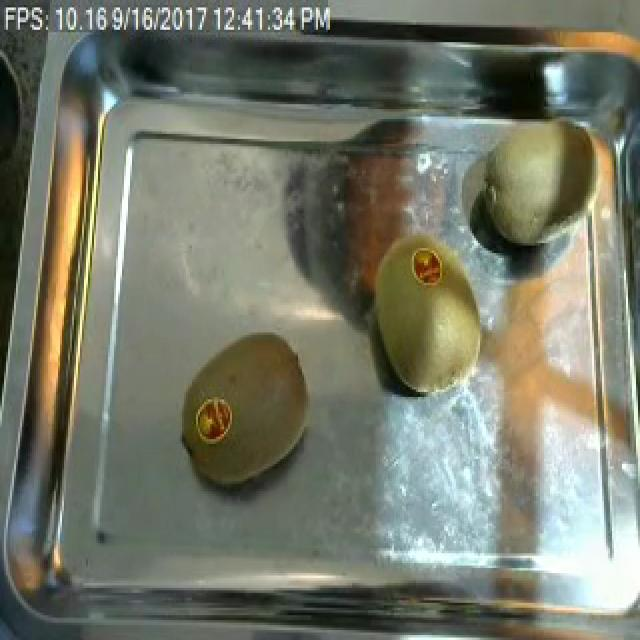Fruit: (462, 107, 638, 263), (176, 328, 320, 496), (362, 233, 492, 404)
